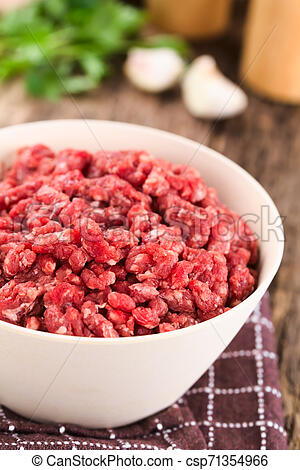ground_beef: (4, 154, 243, 342)
